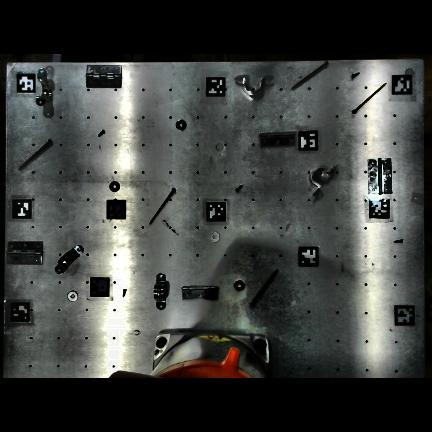black_screw: (234, 185, 242, 192), (393, 239, 403, 243), (100, 129, 104, 134), (122, 289, 127, 292), (351, 74, 353, 77)
clamp: (236, 75, 275, 97), (61, 247, 84, 274), (35, 69, 51, 105), (153, 275, 156, 296), (312, 189, 318, 195)
golden_screw: (351, 84, 385, 114), (292, 61, 327, 89), (250, 270, 277, 306), (18, 140, 50, 170), (149, 188, 175, 224)
hinge: (367, 158, 391, 195), (6, 241, 42, 264), (85, 65, 121, 88), (180, 285, 217, 300), (259, 133, 295, 147)
marker: (394, 304, 415, 325), (12, 198, 32, 219), (370, 198, 390, 218), (299, 246, 319, 266), (298, 130, 318, 150), (206, 75, 226, 95), (10, 300, 29, 321), (207, 201, 226, 222), (392, 75, 412, 94), (17, 73, 36, 93), (107, 200, 126, 219), (90, 278, 109, 296)
washer: (234, 280, 244, 290), (209, 232, 219, 242), (175, 120, 185, 130), (109, 181, 118, 191), (67, 291, 76, 301)
